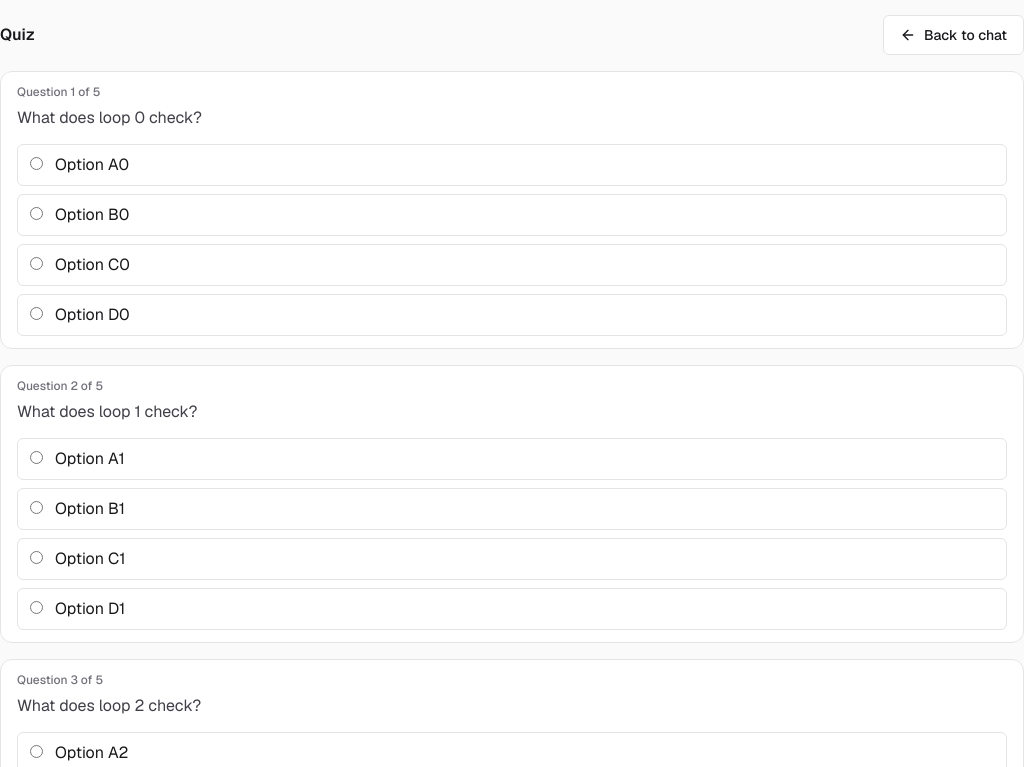
Scenario: QuizView after checking › disables every radio
Click the radio button labelled "Option A0": (36, 164) [30,157,43,170]
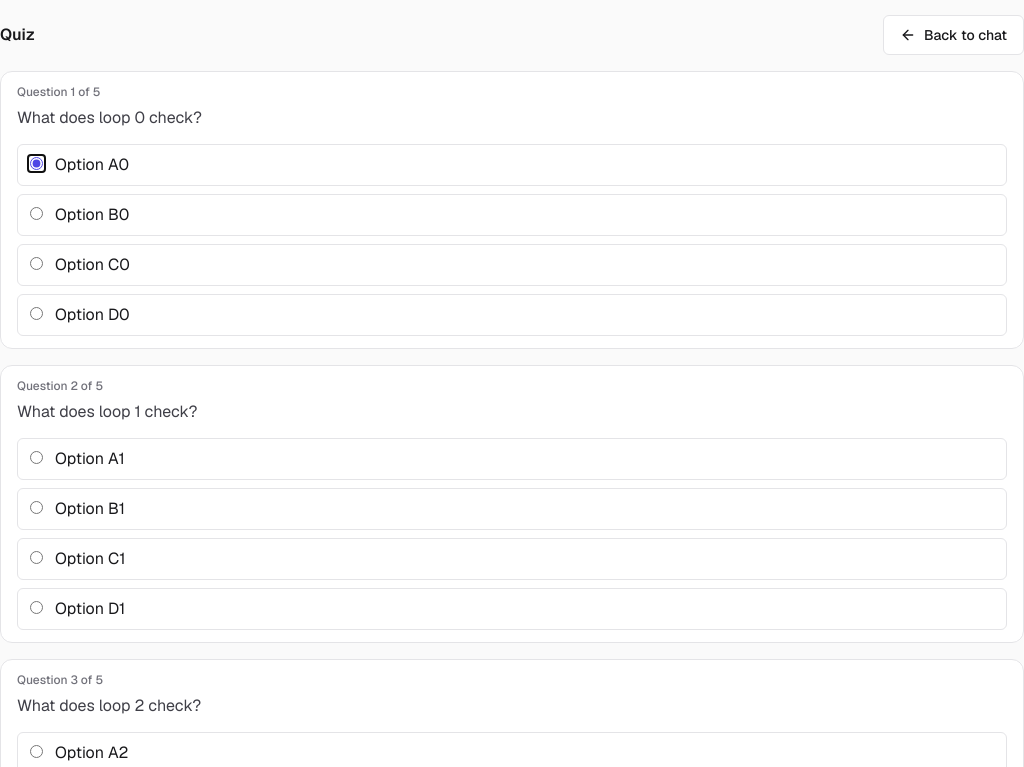
Click the radio button labelled "Option B1": (36, 508) [30,501,43,514]
(page scrolled)
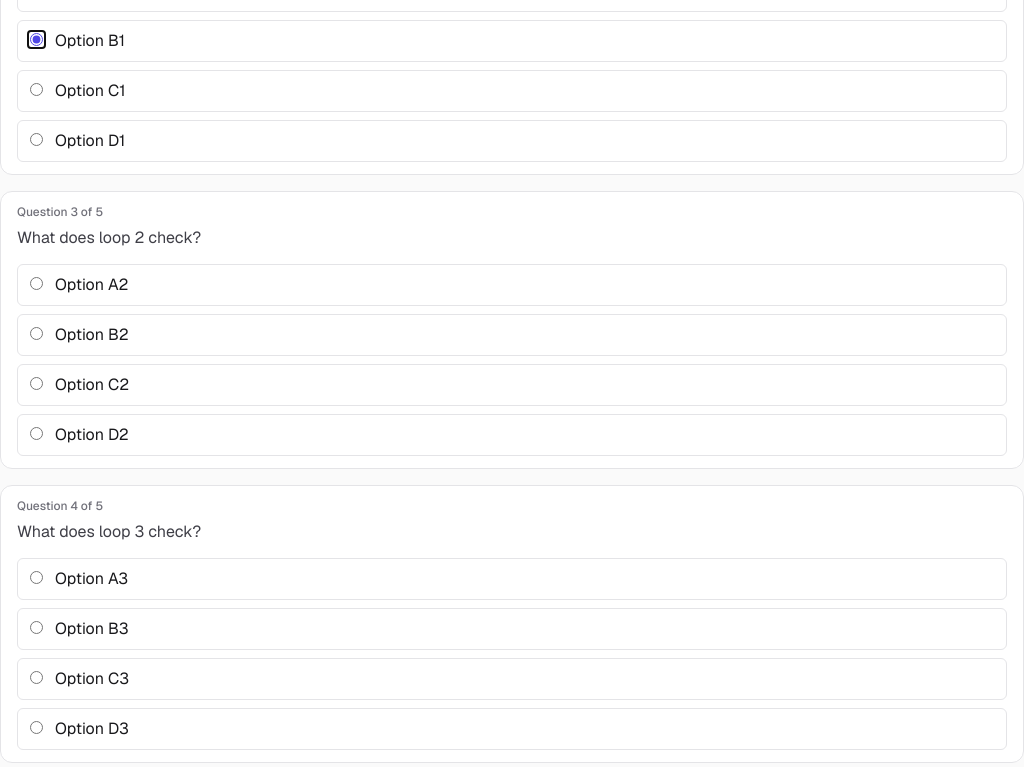
Click the radio button labelled "Option C2": (36, 384) [30,377,43,390]
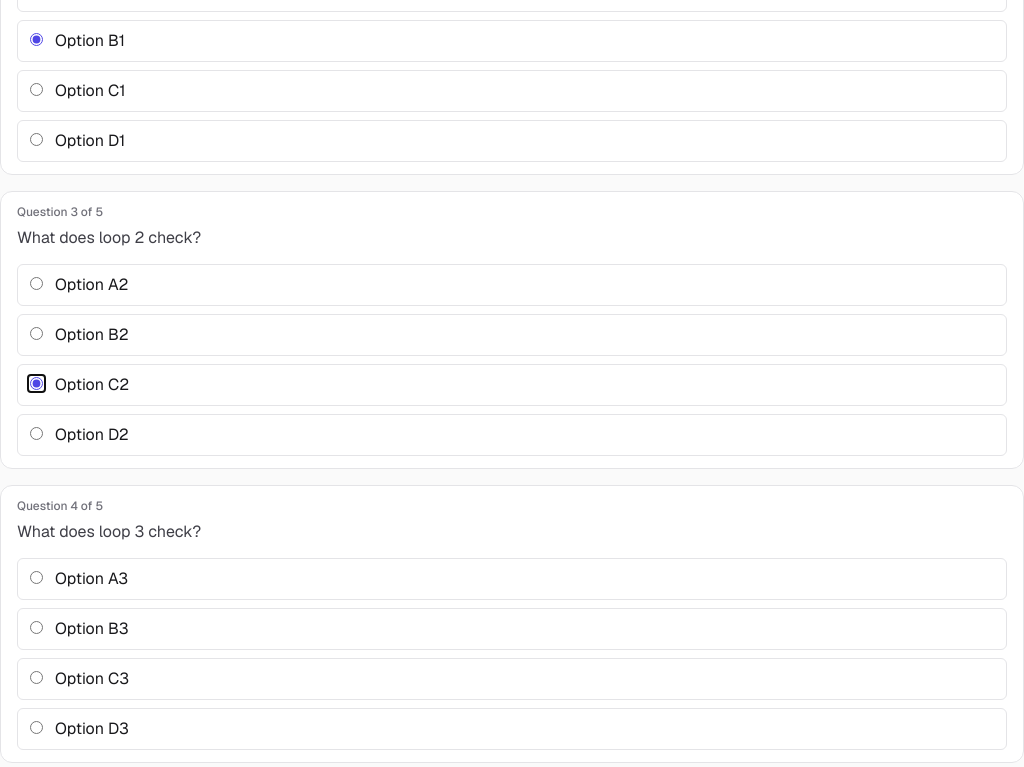
Click the radio button labelled "Option A3": (36, 578) [30,571,43,584]
(page scrolled)
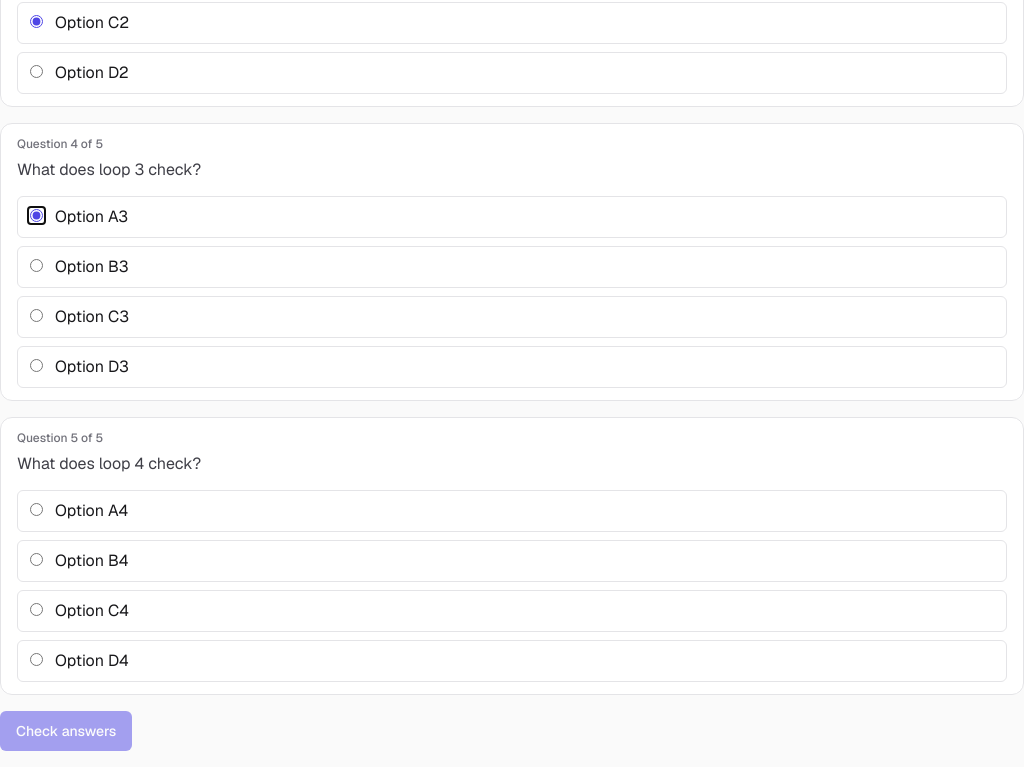
Click the radio button labelled "Option B4": (36, 560) [30,553,43,566]
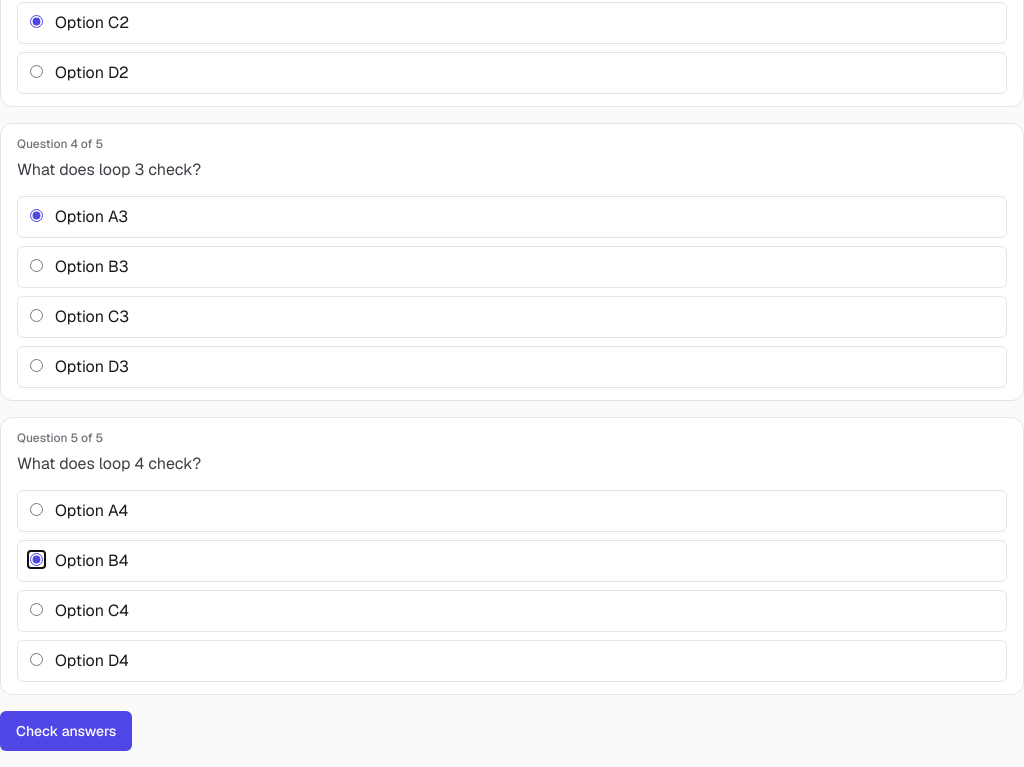
Click the button "Check answers": (66, 731) [0,711,132,751]
(page scrolled)
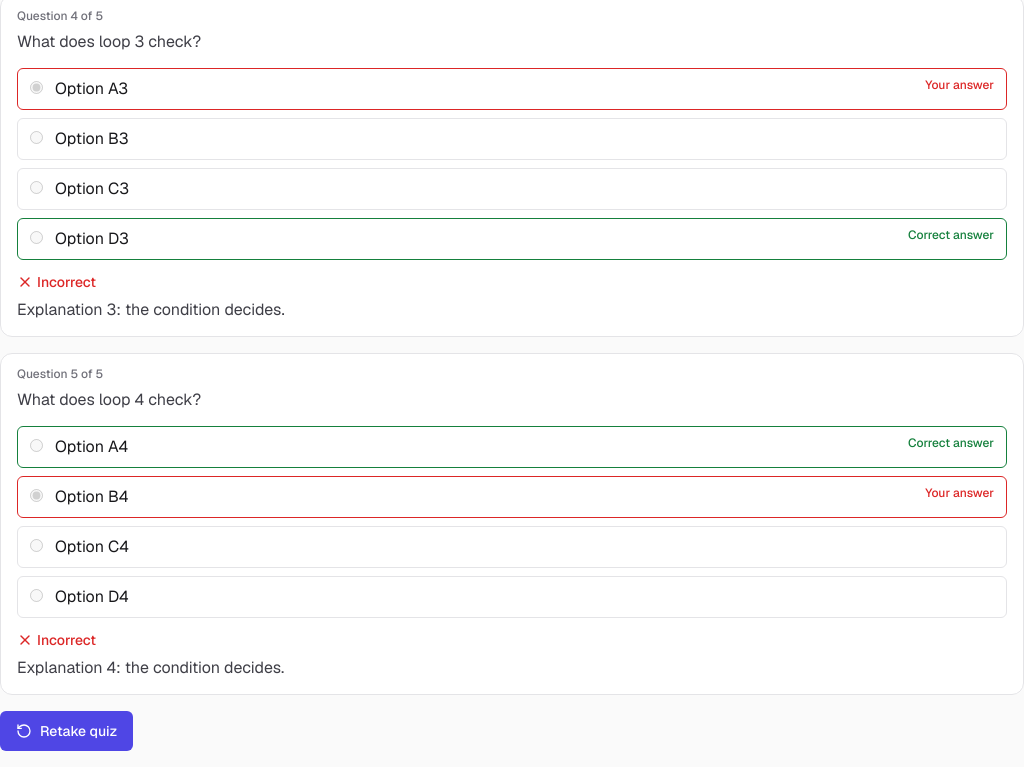
Expected: the radio button labelled "Option A3 Your answer" is disabled, [30,81,43,94]
Expected: the radio button labelled "Option B3" is disabled, [30,131,43,144]
Expected: the radio button labelled "Option C3" is disabled, [30,181,43,194]
